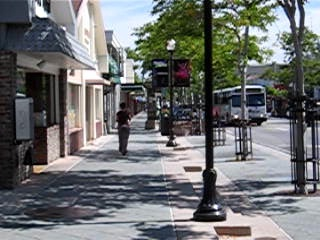person: (115, 101, 134, 158), (114, 101, 133, 158), (116, 101, 135, 158), (115, 100, 134, 157), (115, 102, 134, 159)
target_negative: (93, 17, 293, 143), (79, 70, 224, 230), (5, 58, 37, 162), (277, 83, 302, 201), (257, 187, 300, 240), (252, 172, 294, 190)
